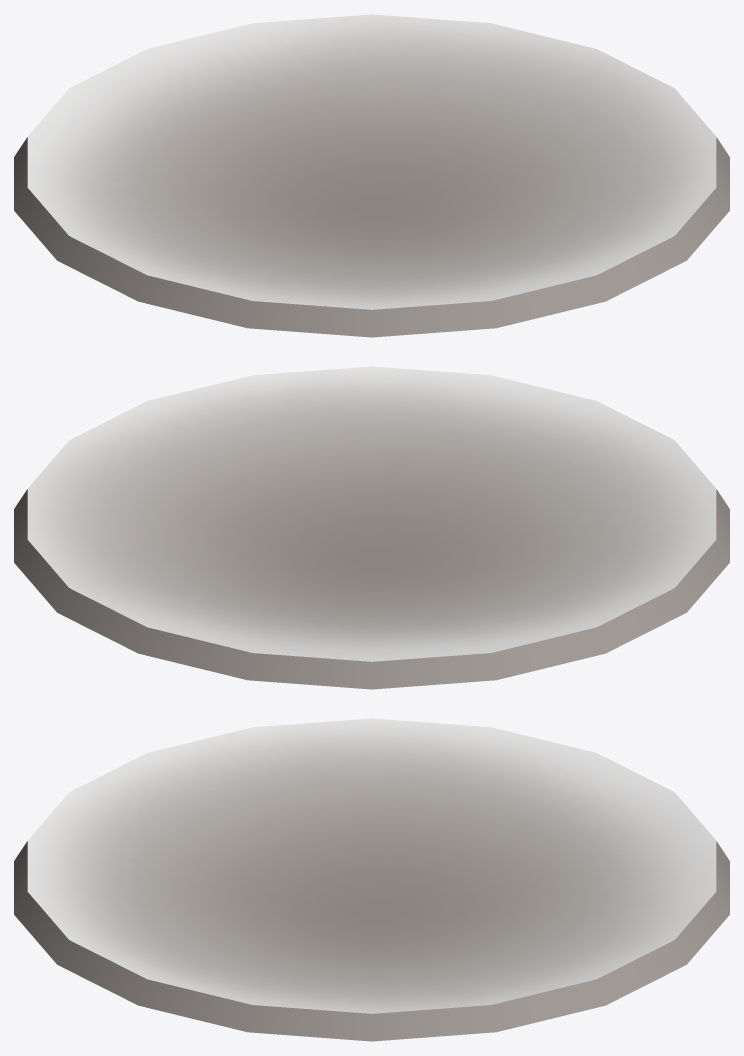
The model's file is kaorou_panzi.fbx.
The picture shows the model from 3 angles, top to bottom: view 1: azimuth 30°, elevation 25°; view 2: azimuth 150°, elevation 25°; view 3: azimuth 270°, elevation 25°; orthographic projection.
Visible parts, largest first — view 1: Cylinder001; view 2: Cylinder001; view 3: Cylinder001.
Boxes of the visible parts, left/top/right/bottom form: Cylinder001: left=14, top=14, right=729, bottom=337; Cylinder001: left=14, top=366, right=729, bottom=689; Cylinder001: left=14, top=718, right=729, bottom=1041.
Bounding box in the file's own units: 171 × 14.45 × 169.
